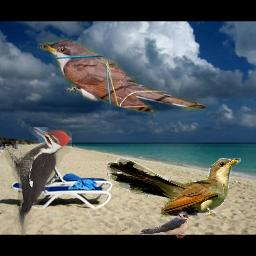Cuckoo: (37, 36, 210, 120), (107, 158, 241, 217)
Swallow: (139, 211, 189, 238)
Woodpecker: (5, 127, 72, 236)
